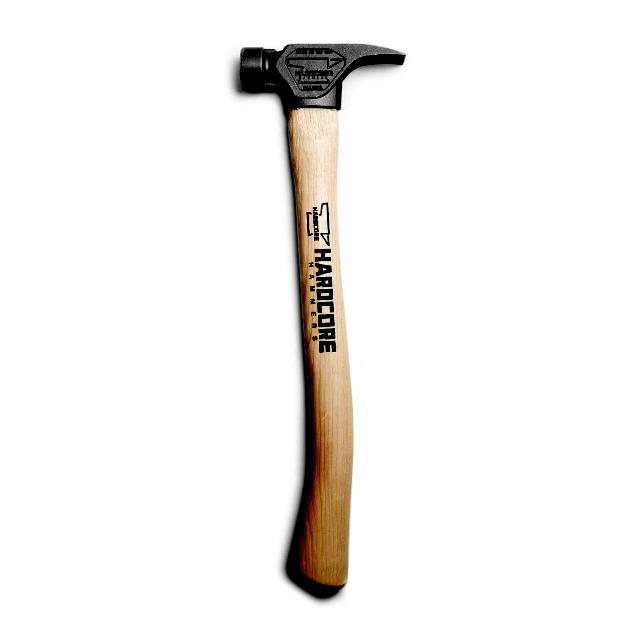hammer: (232, 34, 414, 598)
